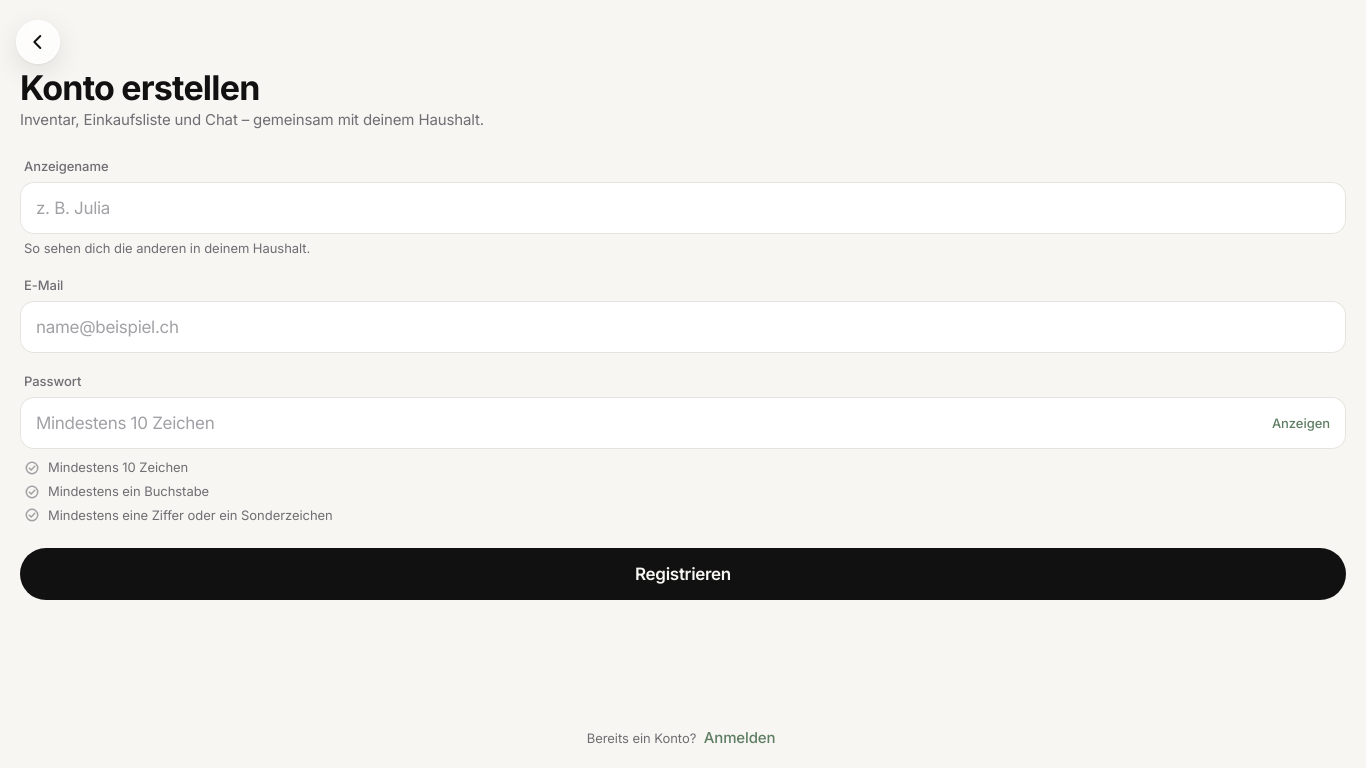
Test: RegisterForm › validates every field with the shared schema before sending
Type "kurz1" into the password field labelled "Passwort".
click(648, 424); type("kurz1")  # box 36,398 -> 1260,450
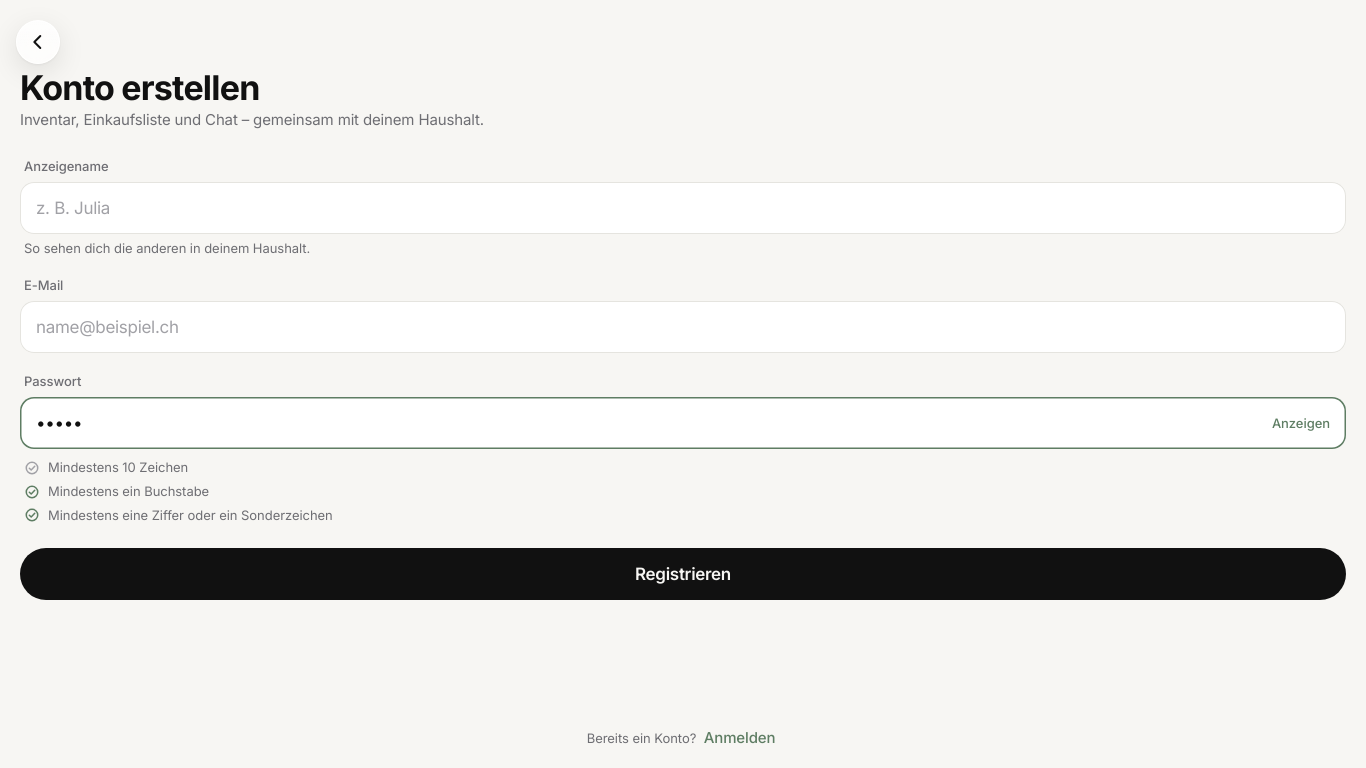
Click the button "Registrieren".
click(683, 574)  # box 20,548 -> 1346,600
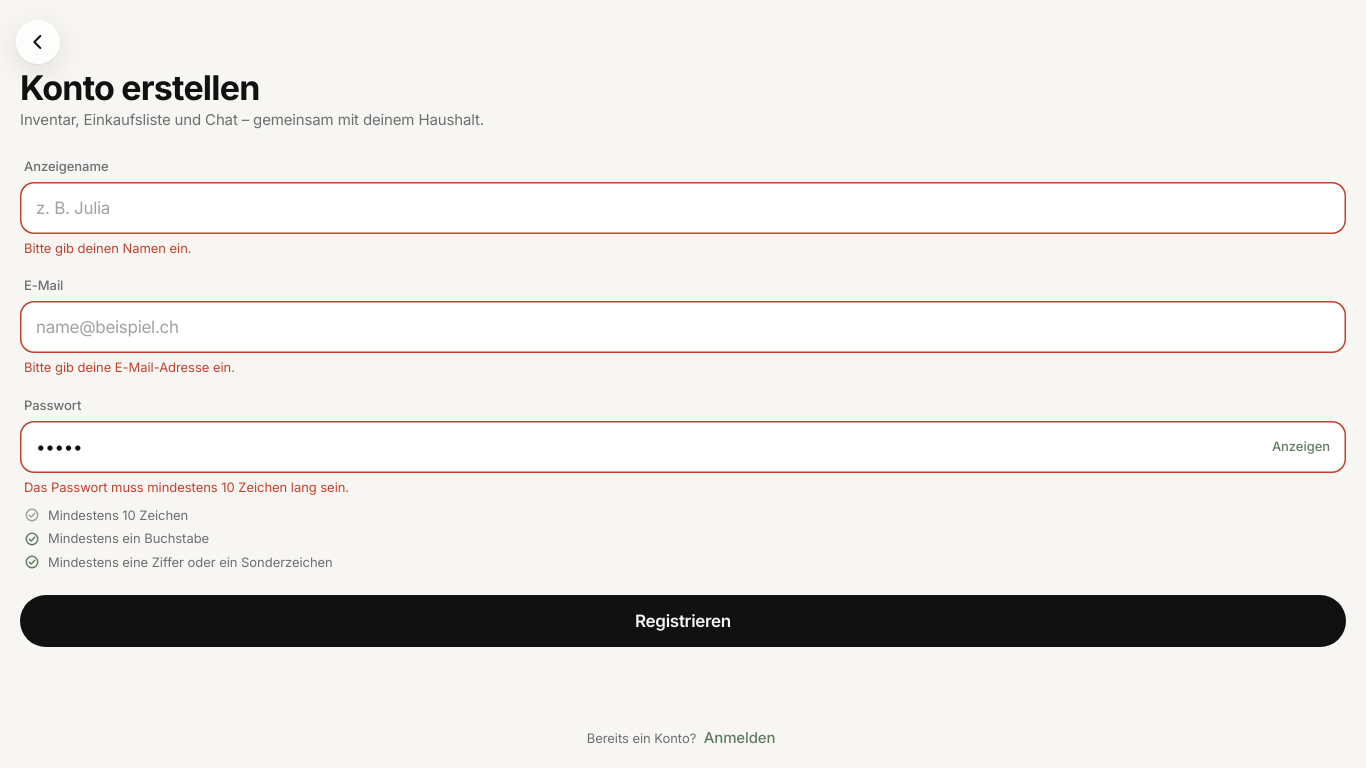
Now the text "Bitte gib deinen Namen ein." is shown, box 24,240 -> 192,256
Now the text "Bitte gib deine E-Mail-Adresse ein." is shown, box 24,360 -> 235,376
Now the text "Das Passwort muss mindestens 10 Zeichen lang sein." is shown, box 24,479 -> 349,495
Type "lena@example.ch" into the field labelled "E-Mail".
click(683, 328); type("lena@example.ch")  # box 36,302 -> 1330,354
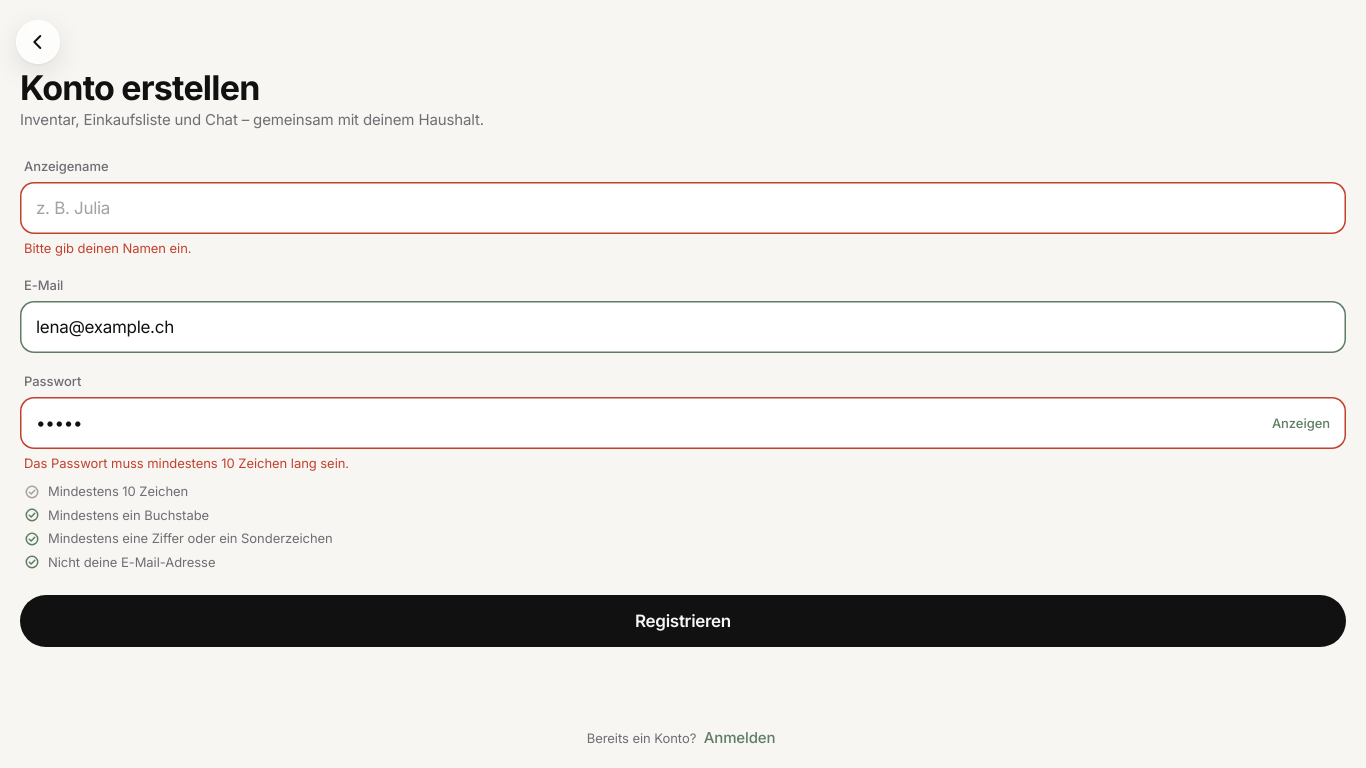
Type "LENA@example.ch" into the password field labelled "Passwort".
click(648, 424); type("LENA@example.ch")  # box 36,398 -> 1260,450
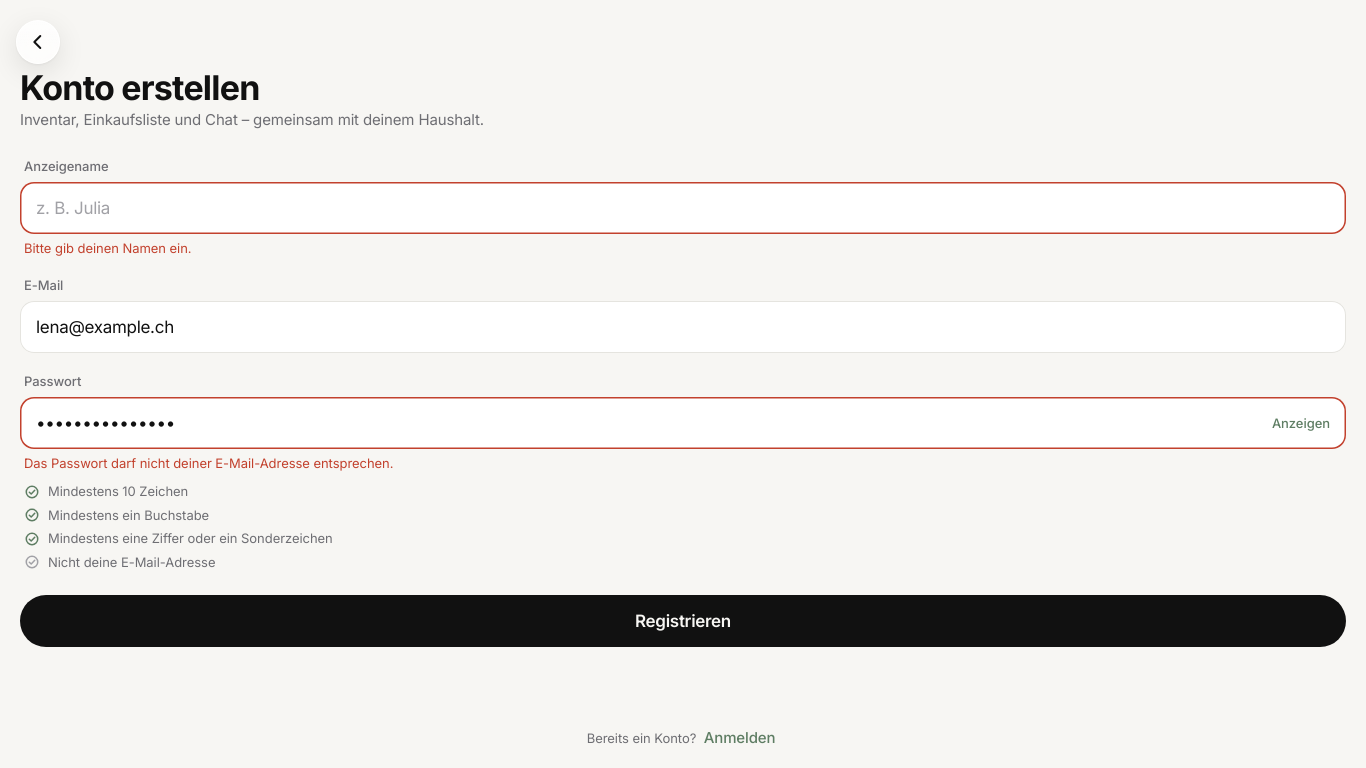
Now the text "Das Passwort darf nicht deiner E-Mail-Adresse entsprechen." is shown, box 24,456 -> 393,472
